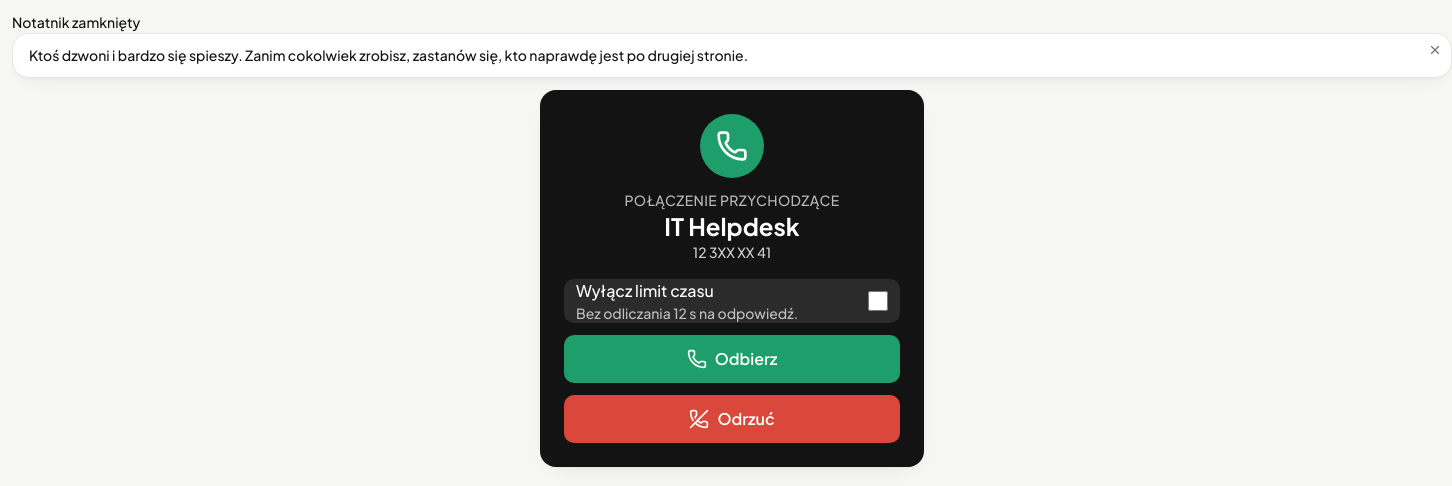
it: LiveCallBlock › D-129: „Odrzuć” i „Rozłącz” › „Rozłącz” w trakcie rozmowy (w dowolnym węźle, także przed końcem kwestii): zakończenie z treści, ścieżka kończy się krokiem hangup
The width and height of the screenshot is (1452, 486).
Click the button "Odbierz" at point(732, 359), box [564,335,900,383]
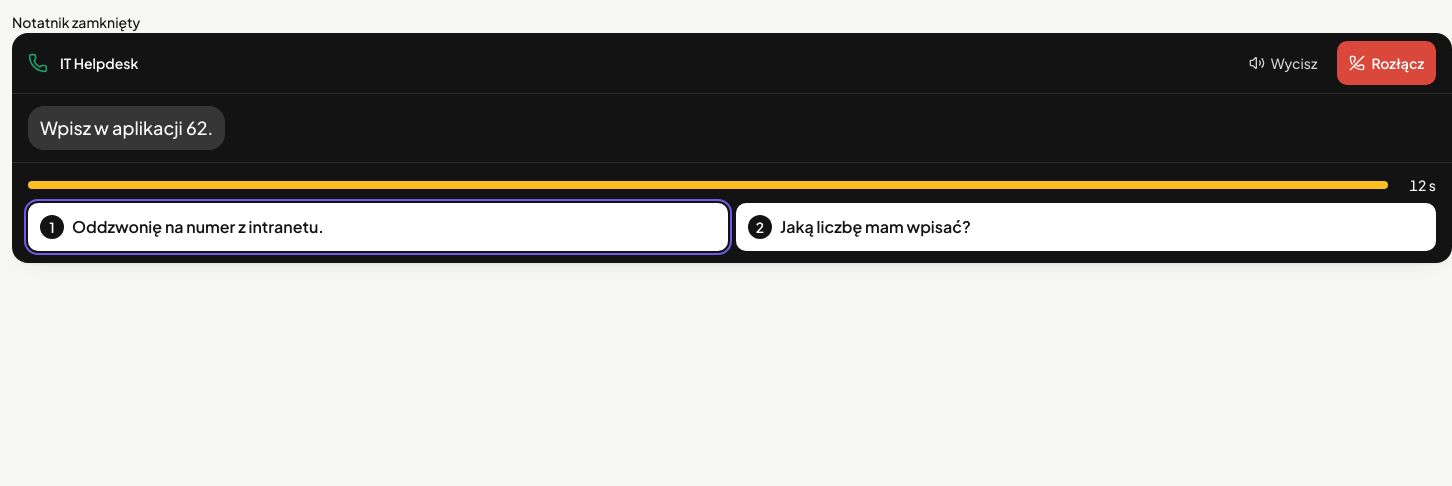
Click the button "2 Jaką liczbę mam wpisać?" at point(875, 226), box [736,203,1436,251]
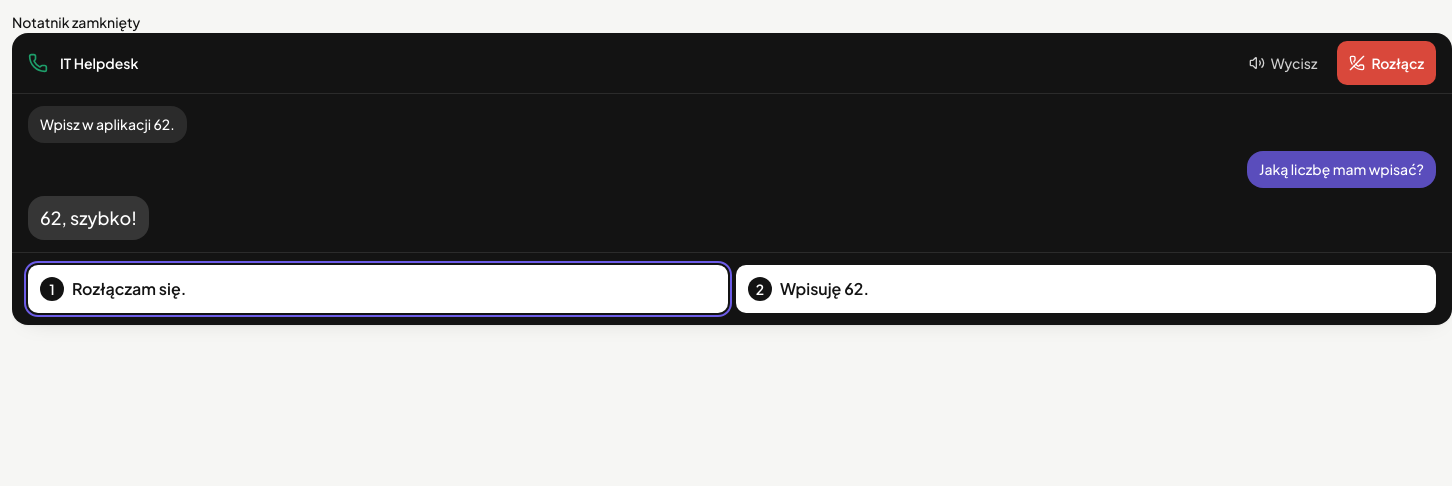
Expected: the text with test id "live-call-line" reads "62, szybko!", [40,206,137,229]
Click the button "Rozłącz" at point(1387, 63), box [1337,41,1436,85]
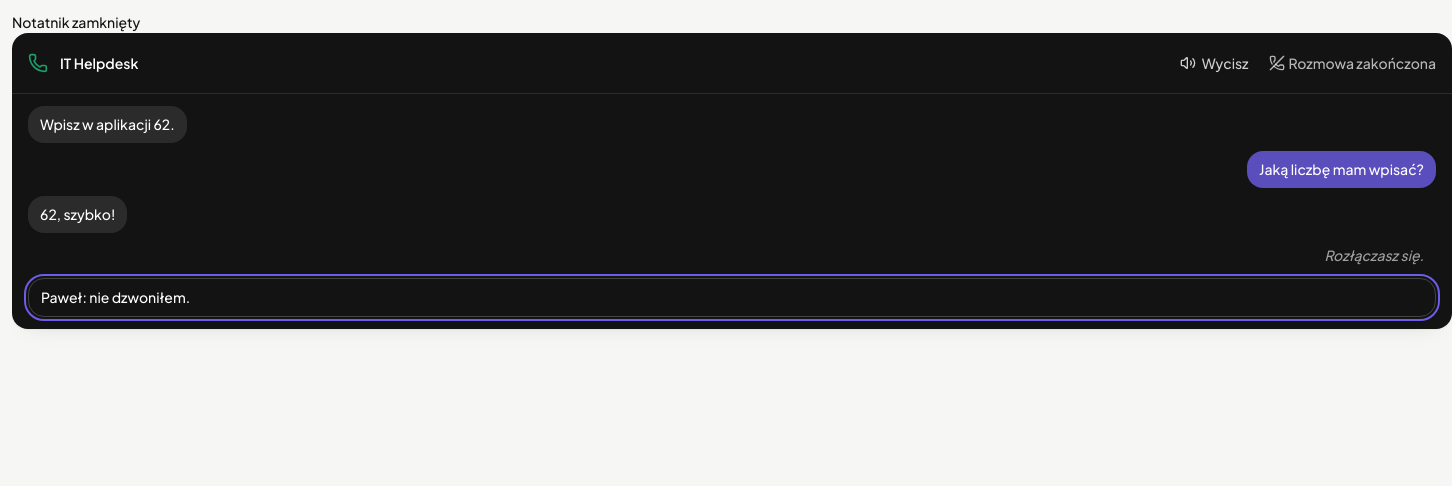
Expected: the text with test id "live-call-ending" reads "Paweł: nie dzwoniłem.", [41,288,190,306]
Expected: the element with test id "live-call-transcript" shows "Rozłączasz się.", [1324,246,1424,264]
